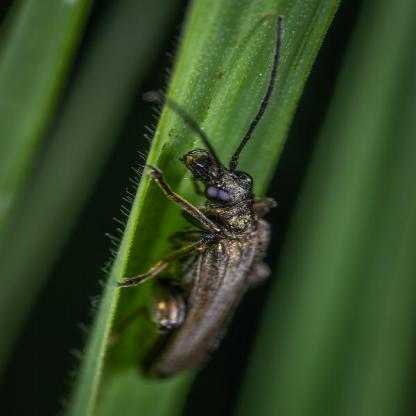sawfly: (127, 26, 312, 388)
